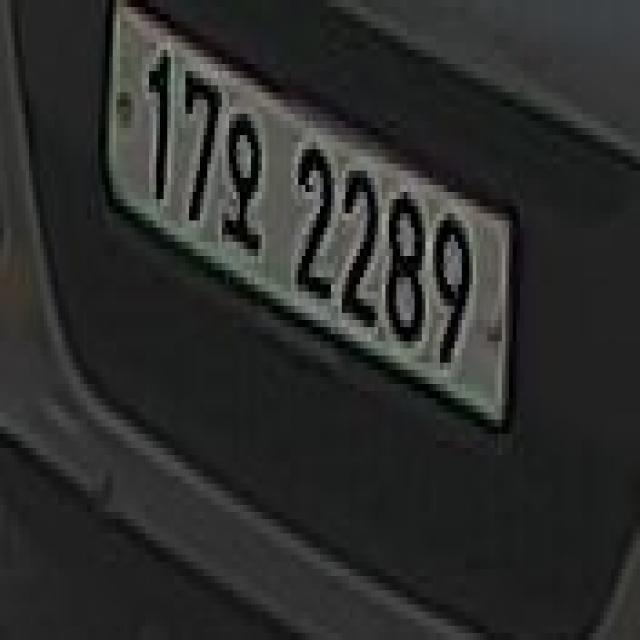1: (131, 42, 174, 220)
2: (334, 150, 382, 342), (291, 128, 334, 320)
7: (178, 57, 222, 242)
8: (382, 178, 429, 356)
9: (429, 206, 484, 377)
license_plate: (91, 7, 527, 441)
o: (222, 92, 265, 270)
